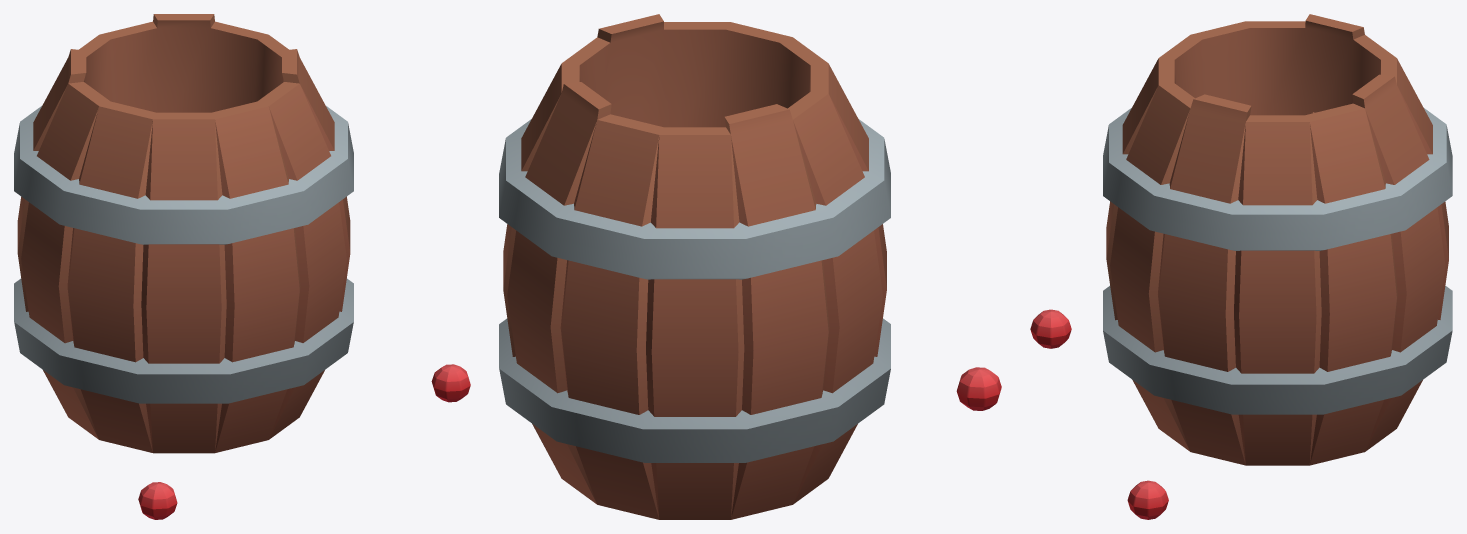
Rendered from apple_barrel_14.glb.
The picture shows the model from 3 angles, left to right: view 1: azimuth 30°, elevation 25°; view 2: azimuth 150°, elevation 25°; view 3: azimuth 270°, elevation 25°; orthographic projection. The views are drawn at different scales.
Visible parts, largest first — view 1: apple_barrel_14; view 2: apple_barrel_14; view 3: apple_barrel_14.
Boxes of the visible parts, bbox=[...] form: apple_barrel_14: bbox=[14, 14, 470, 519]; apple_barrel_14: bbox=[499, 14, 1001, 519]; apple_barrel_14: bbox=[1030, 14, 1452, 519].
Size of the model in its own units: 1.38 by 1.2 by 1.3.
Materials: 2 (2 with a texture image).
